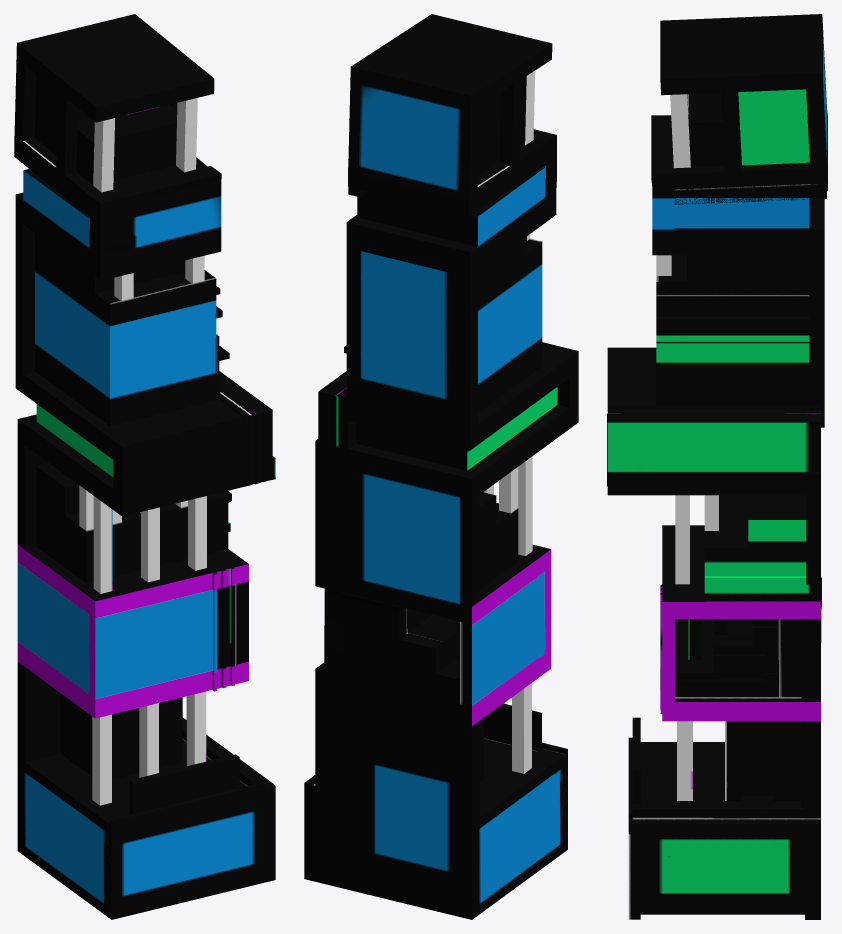
The model's file is antialli.fbx.
3 renders of one model, left to right at view 1: azimuth 30°, elevation 25°; view 2: azimuth 150°, elevation 25°; view 3: azimuth 270°, elevation 25°, orthographic. The views are drawn at different scales.
Parts seen in each view (by area): view 1: Cube; view 2: Cube; view 3: Cube.
Boxes of the visible parts, x1,y1,x2,y2 form: Cube: (14,14,275,919); Cube: (304,14,578,919); Cube: (607,14,827,919).
Bounding box in the file's own units: 1269 × 5957 × 1447.
